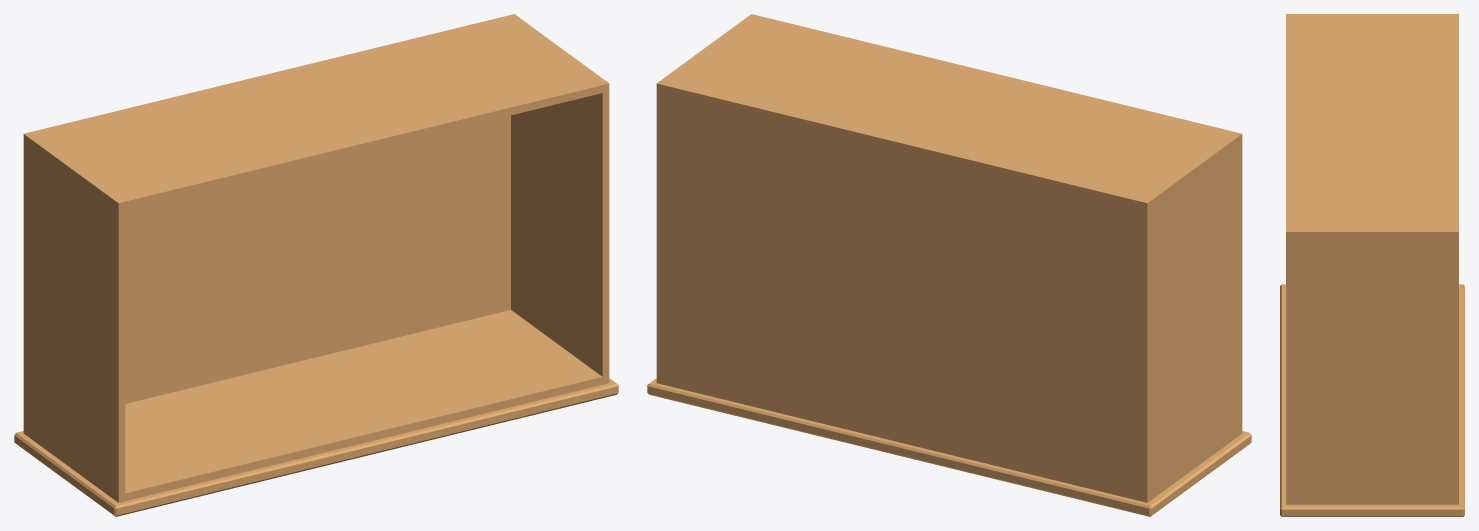
File: DrawermeshDeskDrawer_314_2_3.obj
3 views of the same model, side by side, from view 1: azimuth 30°, elevation 25°; view 2: azimuth 150°, elevation 25°; view 3: azimuth 270°, elevation 25° (orthographic). The views are drawn at different scales.
Visible parts, largest first — view 1: DeskDrawer_314_2; view 2: DeskDrawer_314_2; view 3: DeskDrawer_314_2.
Part boxes in pixels (x1,y1,x2,y2): DeskDrawer_314_2: [14, 14, 618, 516]; DeskDrawer_314_2: [647, 14, 1251, 516]; DeskDrawer_314_2: [1280, 14, 1464, 516].
Size of the model in its own units: 0.7815 by 0.4764 by 0.2726.
